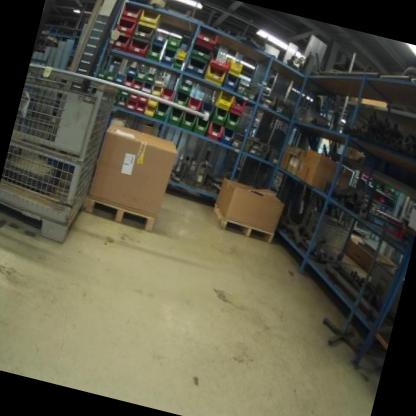pallet: (207, 203, 279, 246), (83, 196, 158, 234)
stillage: (0, 64, 118, 254)
